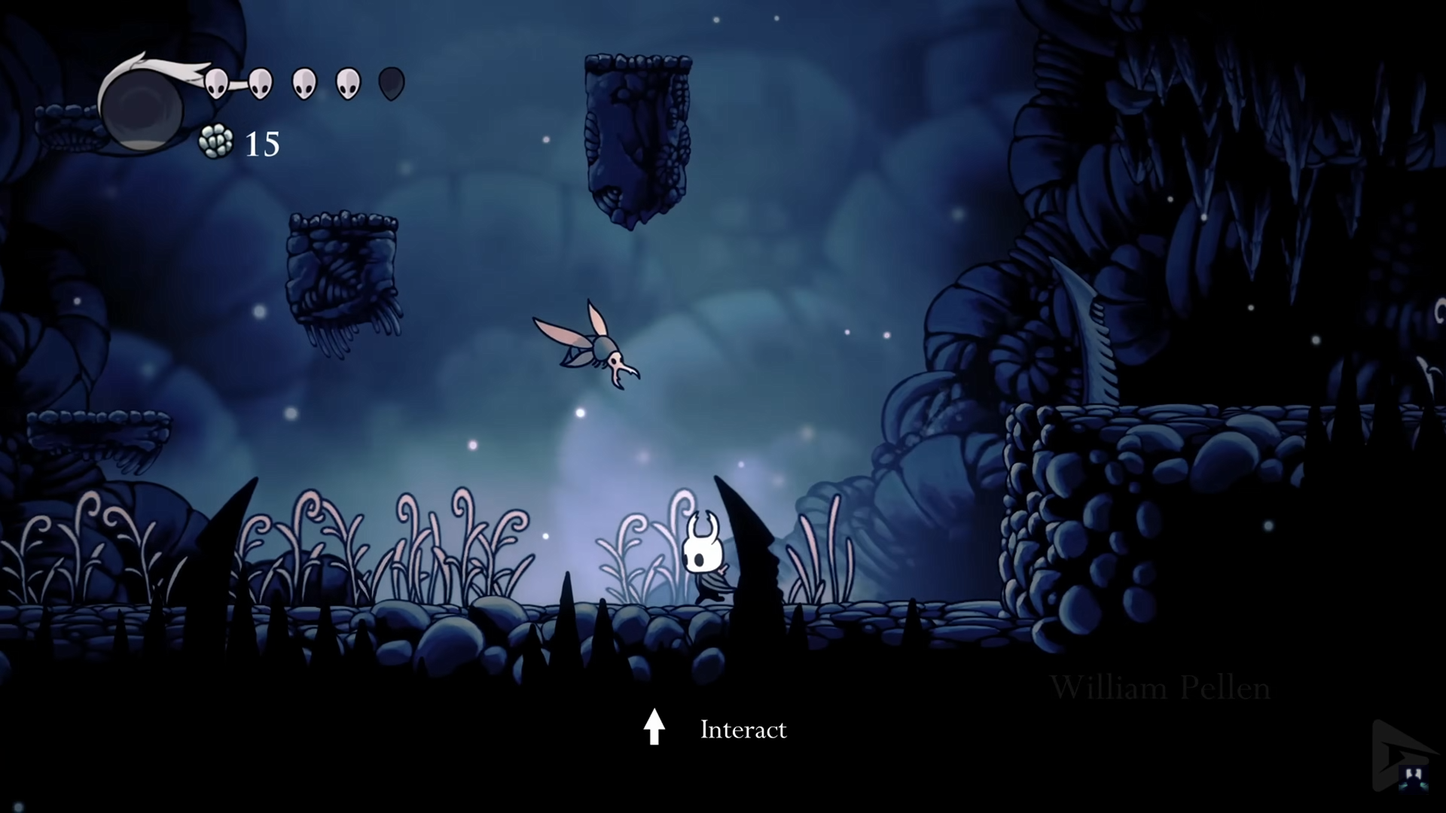HK: (677, 501, 734, 608)
